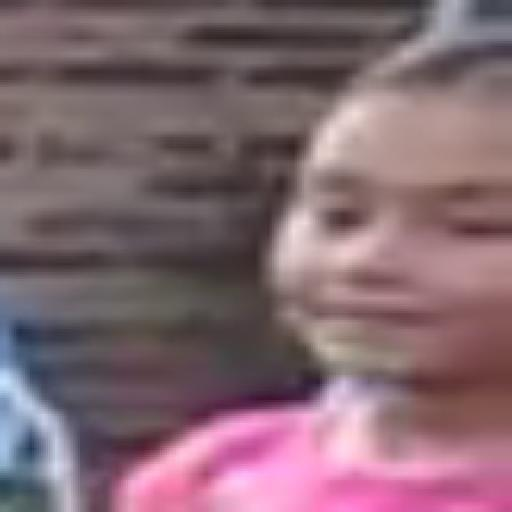Autism: (247, 2, 512, 457)
